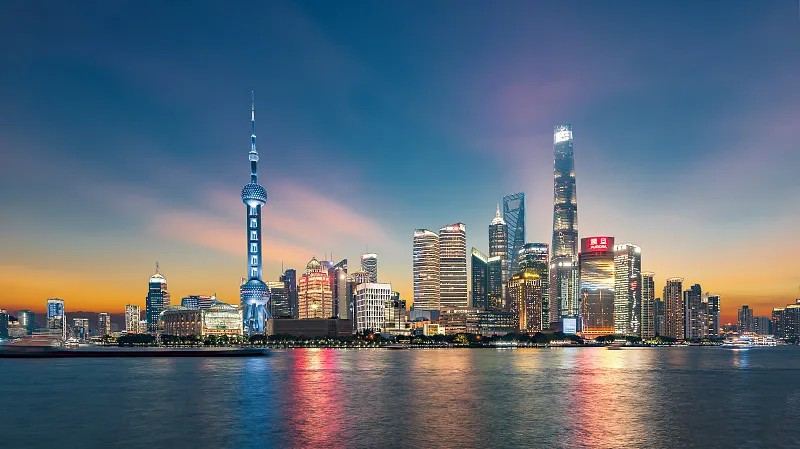Oriental: (243, 90, 271, 327)
